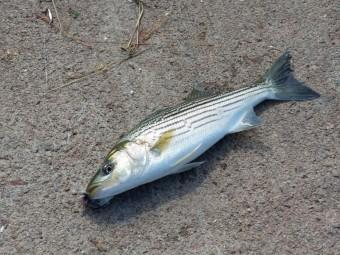fish: (86, 51, 319, 205)
